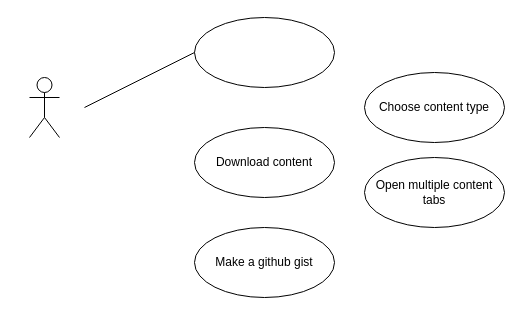
Some shapes in this 522 by 315 pixel diagram are drawn without their labels. Each missing label, with the centre of its shape:
"Create content" belongs at point (264, 52).
"Developer" belongs at point (44, 107).
